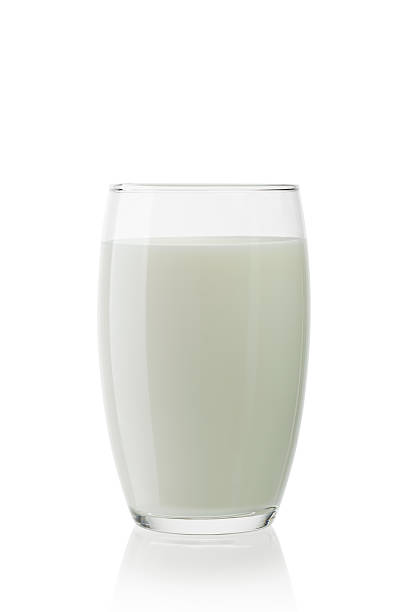glass of milk: (96, 165, 317, 554)
